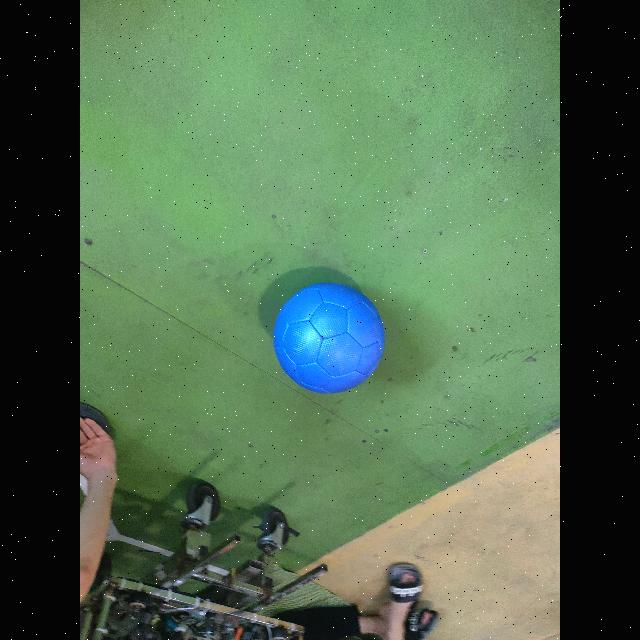B: (271, 279, 386, 392)
